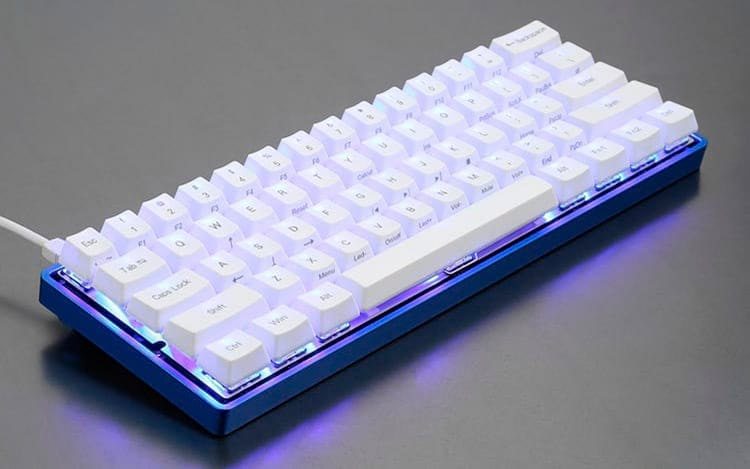keyboard: (34, 15, 710, 440)
